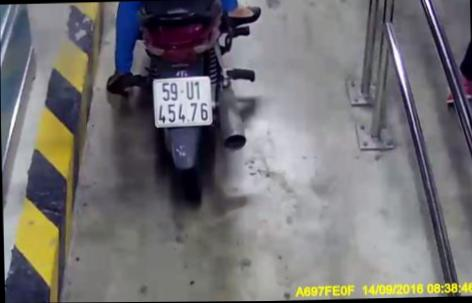LP: (152, 76, 212, 129)
